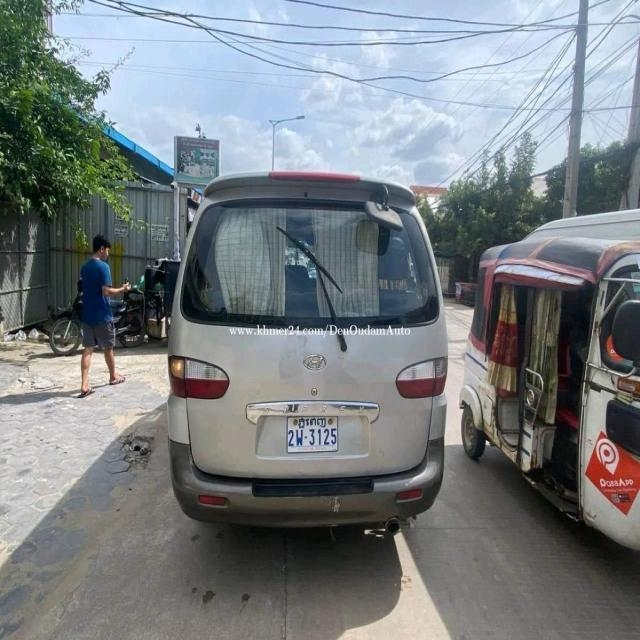Phnom_Penh: (298, 417, 326, 428)
